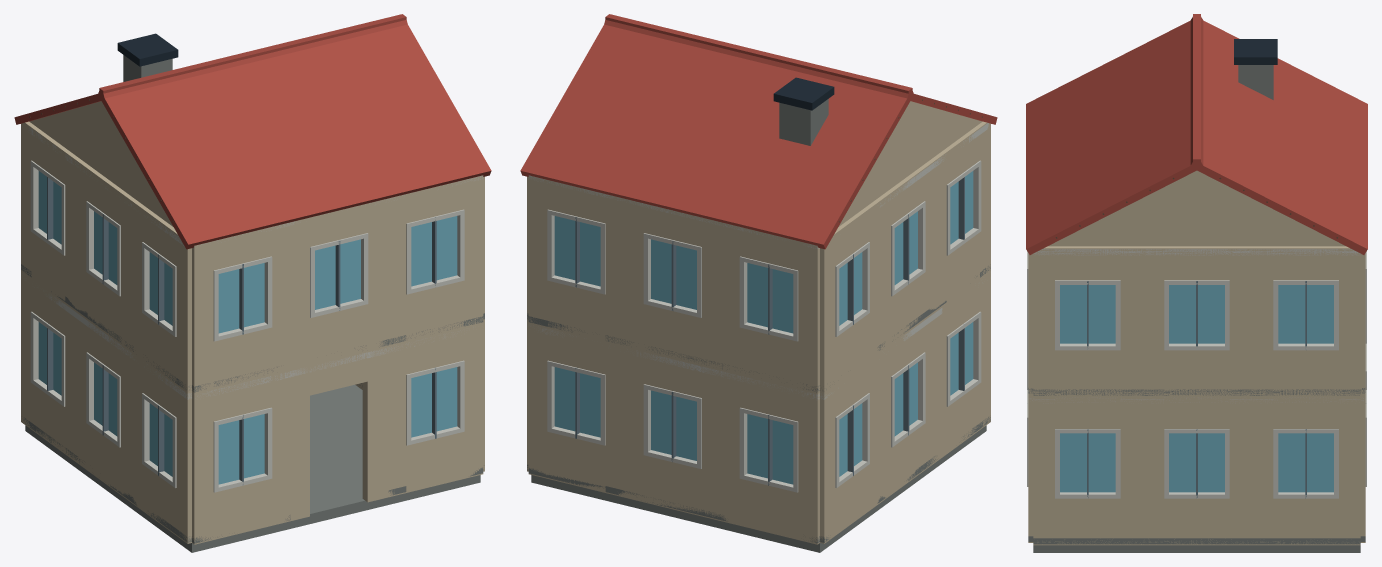
Rendered from architecture-townhouse.lod0.glb.
3 renders of one model, left to right at view 1: azimuth 30°, elevation 25°; view 2: azimuth 150°, elevation 25°; view 3: azimuth 270°, elevation 25°, orthographic.
Parts seen in each view (by area): view 1: architecture-townhouse__body; view 2: architecture-townhouse__body; view 3: architecture-townhouse__body.
Part boxes in pixels (x1,y1,x2,y2): architecture-townhouse__body: (14,14,491,552); architecture-townhouse__body: (520,14,997,552); architecture-townhouse__body: (1026,14,1367,552).
Size of the model in its own units: 6.31 by 8.07 by 6.26.
